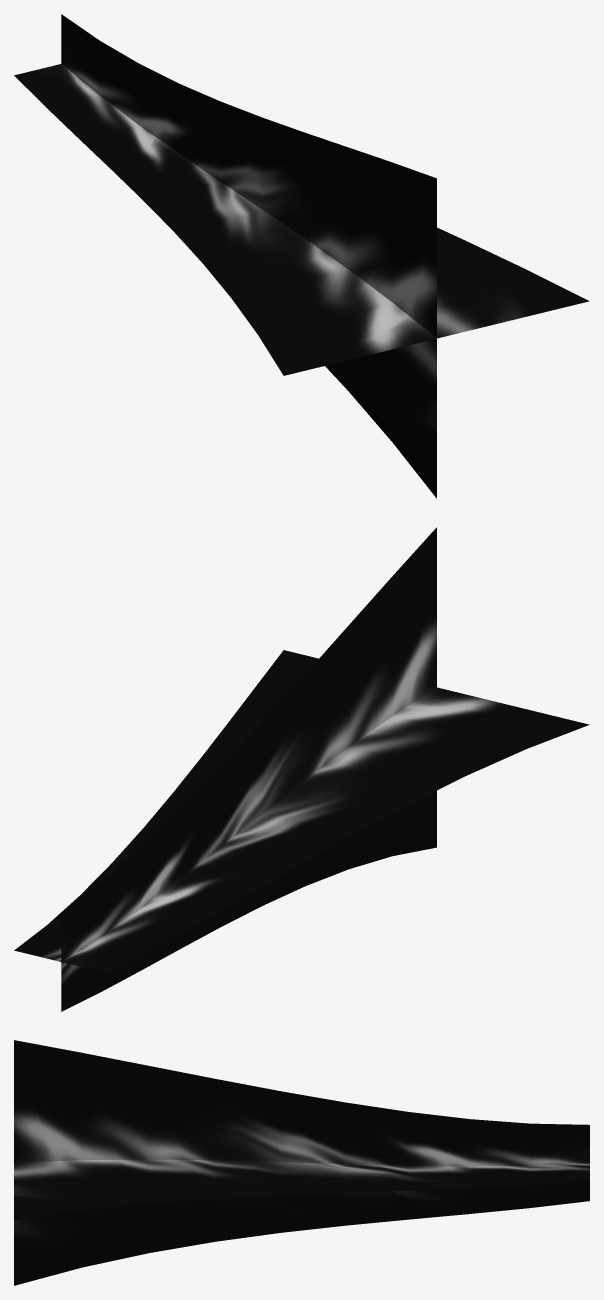
The model's file is jian_yanwu.FBX.
The picture shows the model from 3 angles, top to bottom: view 1: azimuth 30°, elevation 25°; view 2: azimuth 150°, elevation 25°; view 3: azimuth 270°, elevation 25°; orthographic projection. The views are drawn at different scales.
Visible parts, largest first — view 1: jian_yanwu; view 2: jian_yanwu; view 3: jian_yanwu.
Part boxes in pixels (left/top/right/bottom): jian_yanwu: left=14, top=14, right=589, bottom=498; jian_yanwu: left=14, top=527, right=589, bottom=1011; jian_yanwu: left=14, top=1040, right=589, bottom=1285.
Bounding box in the file's own units: 48.22 × 48.22 × 102.
